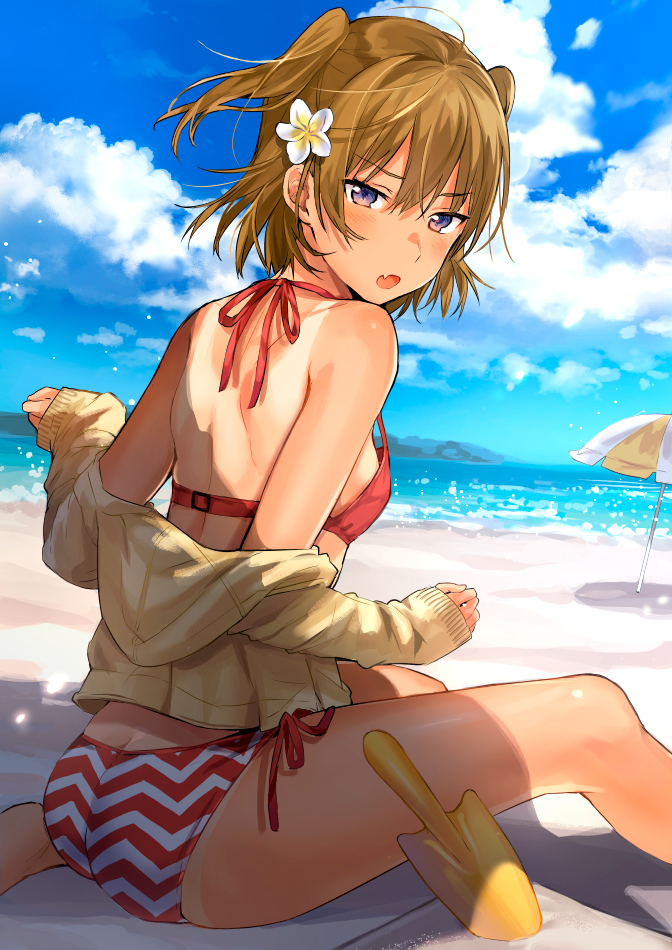纸片人正脸: (234, 12, 519, 310)
